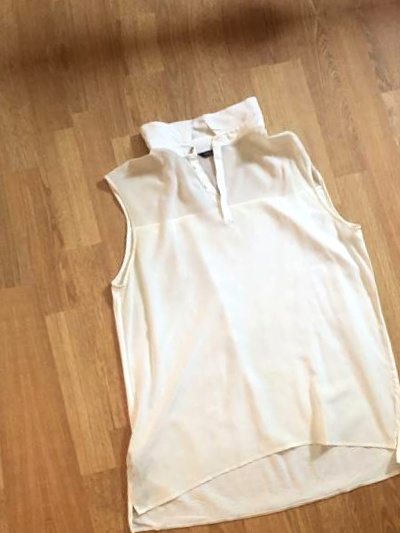Blouse: (23, 67, 400, 533), (0, 135, 17, 533), (0, 0, 338, 8)
